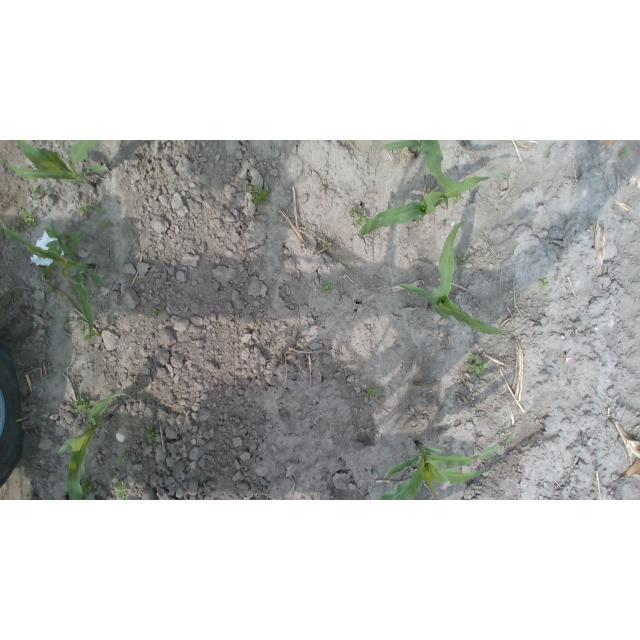Maize: (390, 220, 523, 337), (2, 218, 104, 339), (359, 174, 514, 240), (59, 391, 134, 499), (377, 440, 501, 499), (1, 141, 111, 190), (382, 140, 471, 192)
Weeds: (75, 205, 109, 232), (1, 211, 33, 234), (248, 185, 270, 206), (73, 396, 96, 416), (468, 355, 488, 373), (351, 208, 367, 229), (113, 484, 128, 501), (320, 281, 334, 298), (34, 186, 47, 199), (539, 276, 550, 288), (146, 431, 155, 445), (322, 242, 333, 253), (455, 254, 468, 263), (114, 458, 127, 467), (368, 389, 377, 395)
